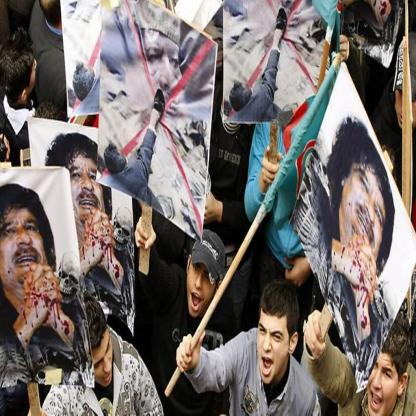face: (140, 23, 185, 127), (345, 161, 385, 259), (2, 207, 47, 285), (69, 151, 107, 236), (259, 300, 291, 383), (368, 347, 400, 416), (188, 258, 219, 318), (86, 330, 115, 386)
